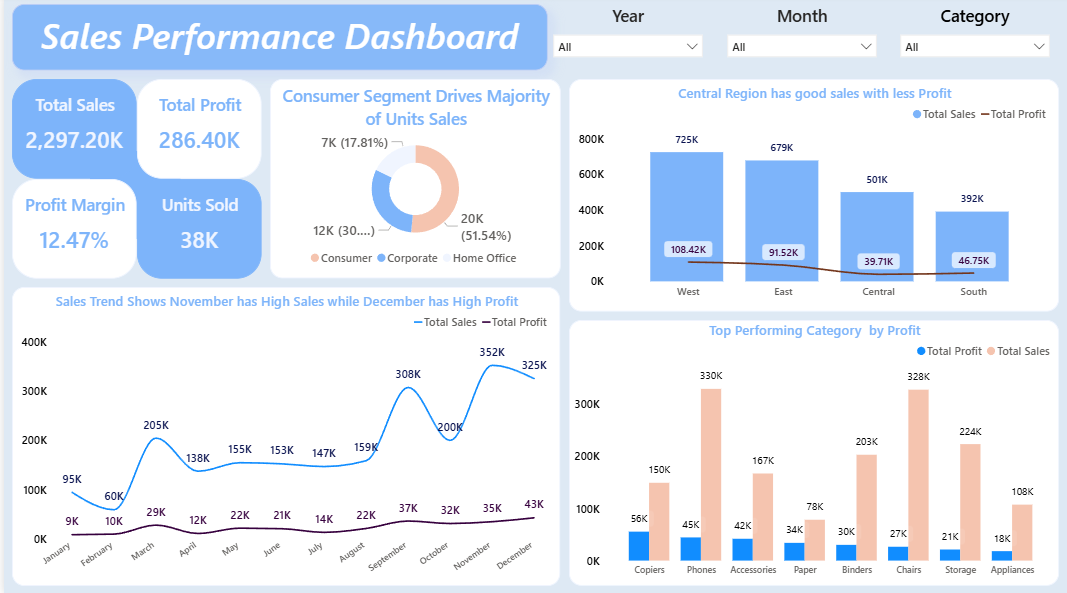

The page's visual inventory and layout, read from the dashboard file:
{"tool":"powerbi","page":{"name":"Page 2","canvas":[1280,720],"ordinal":0},"visuals":[{"type":"textbox","box":[103,186.3,108.5,105.9],"z":0},{"type":"textbox","title":"Sales Performance Dashboard","box":[9.6,9.6,645,80],"z":1000},{"type":"slicer","title":"Year","fields":{"Values":["DimDate.Year"]},"box":[651.5,10,200,70],"z":2000},{"type":"slicer","title":"Month","fields":{"Values":["DimDate.Month Name"]},"box":[860.5,10,200,70],"z":3000},{"type":"slicer","title":"Category","fields":{"Values":["DimProduct.Sub-Category"]},"box":[1069.5,10,200,70],"z":4000},{"type":"card","title":"Total Sales","fields":{"Values":["Total sales.Total Sales"]},"box":[10,100,150,120],"z":5000},{"type":"card","title":"Total Profit","fields":{"Values":["Total sales.Total Profit"]},"box":[160,100,150,120],"z":6000},{"type":"card","title":"Units Sold","fields":{"Values":["Total sales.Units"]},"box":[160,220,150,120],"z":7000},{"type":"card","title":"Profit Margin","fields":{"Values":["Total sales.Profit Margin"]},"box":[10,220,150,120],"z":8000},{"type":"lineStackedColumnComboChart","title":" Central Region has good sales with less Profit","fields":{"Category":["DimGeography.Region"],"Y2":["Total sales.Total Profit"],"Y":["Total sales.Total Sales"]},"box":[680,100,590,280],"z":9000},{"type":"donutChart","title":"Consumer Segment Drives Majority of Units Sales","fields":{"Category":["DimCustomer.Segment"],"Y":["Total sales.Units"]},"box":[320,100,350,240],"z":10000},{"type":"lineChart","title":"Sales Trend Shows November has High Sales while December has High Profit","fields":{"Category":["DimDate.Month Name"],"Y":["Total sales.Total Sales","Total sales.Total Profit"]},"box":[10,350,660,360],"z":11000},{"type":"clusteredColumnChart","title":"Top Performing Category  by Profit","fields":{"Category":["DimProduct.Sub-Category"],"Y":["Total sales.Total Profit","Total sales.Total Sales"]},"box":[680,390,590,320],"z":12000}]}

Visuals, with their boxes in screenshot pixels (x1, y1, x2, y2), scaled from the page's 1280x720 canvas onto the 1067x593 screenshot:
textbox: l=86, t=153, r=176, b=241
"Sales Performance Dashboard" textbox: l=8, t=8, r=546, b=74
"Year" slicer: l=543, t=8, r=710, b=66
"Month" slicer: l=717, t=8, r=884, b=66
"Category" slicer: l=892, t=8, r=1058, b=66
"Total Sales" card: l=8, t=82, r=133, b=181
"Total Profit" card: l=133, t=82, r=258, b=181
"Units Sold" card: l=133, t=181, r=258, b=280
"Profit Margin" card: l=8, t=181, r=133, b=280
" Central Region has good sales with less Profit" lineStackedColumnComboChart: l=567, t=82, r=1059, b=313
"Consumer Segment Drives Majority of Units Sales" donutChart: l=267, t=82, r=559, b=280
"Sales Trend Shows November has High Sales while December has High Profit" lineChart: l=8, t=288, r=559, b=585
"Top Performing Category  by Profit" clusteredColumnChart: l=567, t=321, r=1059, b=585
